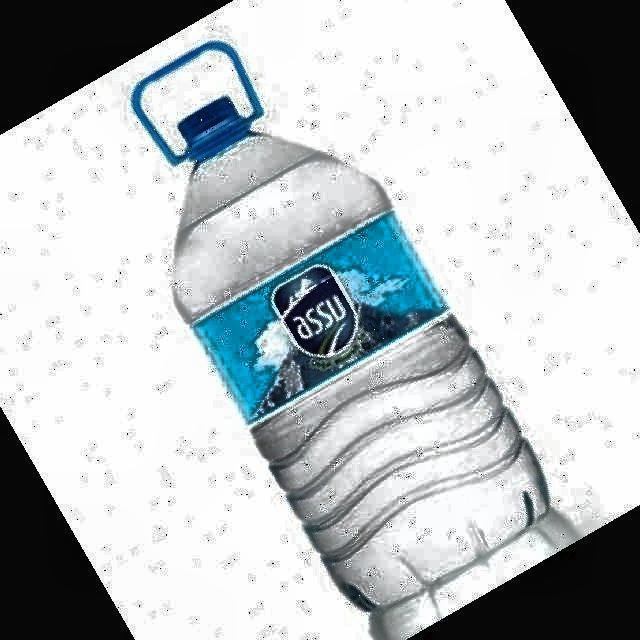plastic: (132, 42, 549, 609)
